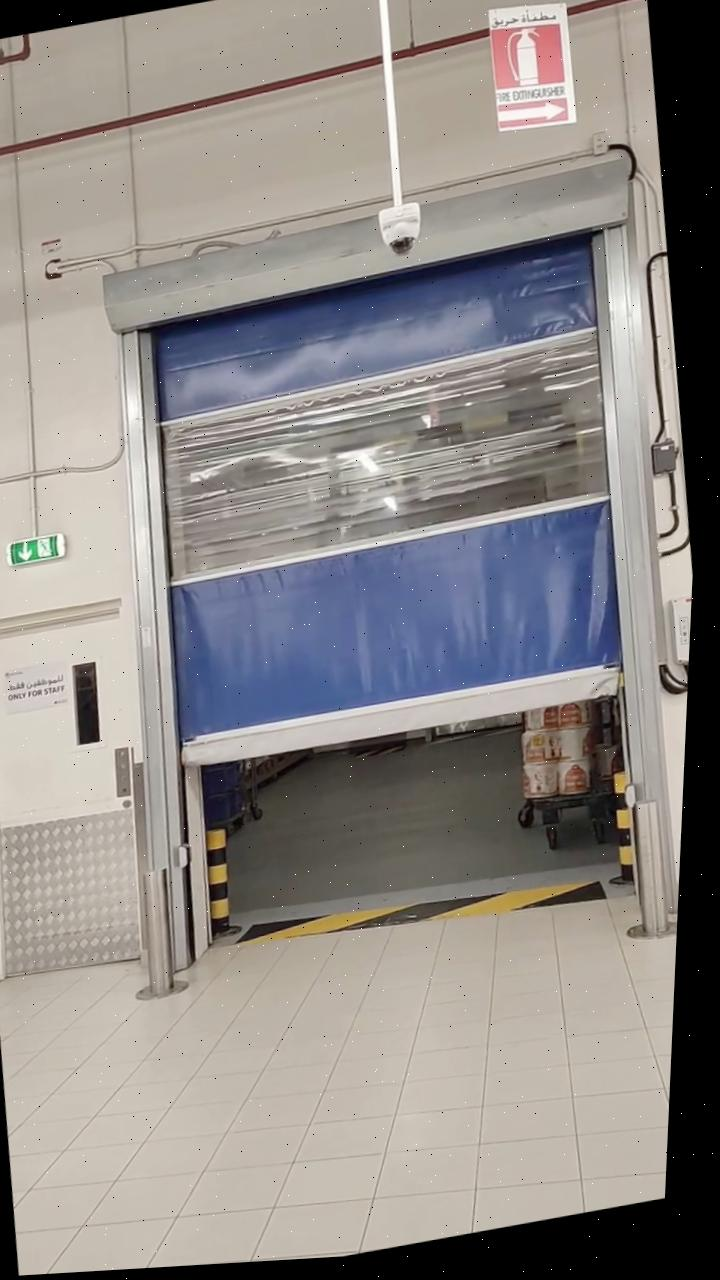Strip: (247, 863, 618, 970)
